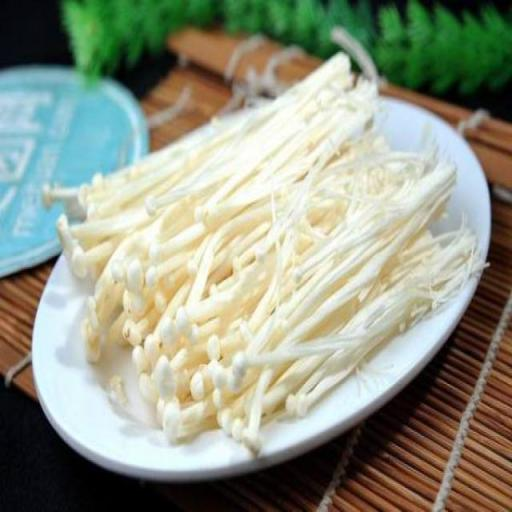Enoki Mushroom: (41, 54, 488, 445)
